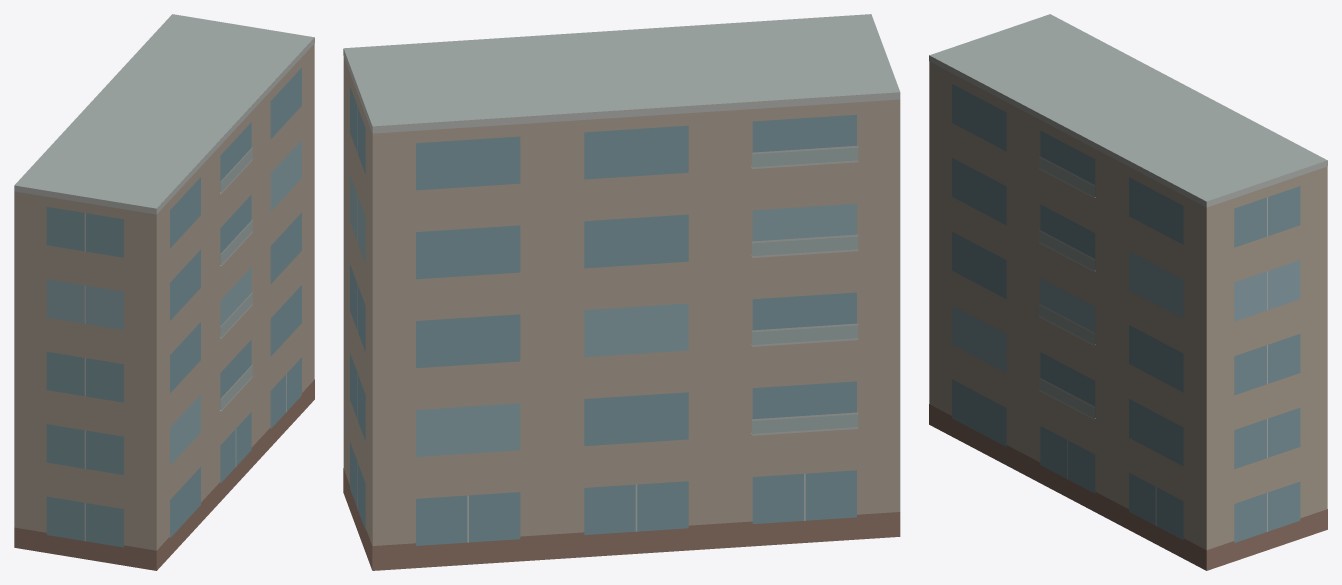
File: survey-upis-32691795.glb
3 views of the same model, side by side, from view 1: azimuth 30°, elevation 25°; view 2: azimuth 150°, elevation 25°; view 3: azimuth 270°, elevation 25° (orthographic). The views are drawn at different scales.
Visible parts, largest first — view 1: survey-upis-32691795.tmp; view 2: survey-upis-32691795.tmp; view 3: survey-upis-32691795.tmp.
Boxes of the visible parts, x1,y1,x2,y2 form: survey-upis-32691795.tmp: [14, 14, 314, 570]; survey-upis-32691795.tmp: [343, 14, 900, 570]; survey-upis-32691795.tmp: [929, 14, 1327, 570].
Size of the model in its own units: 16.3 by 14.95 by 14.63.
